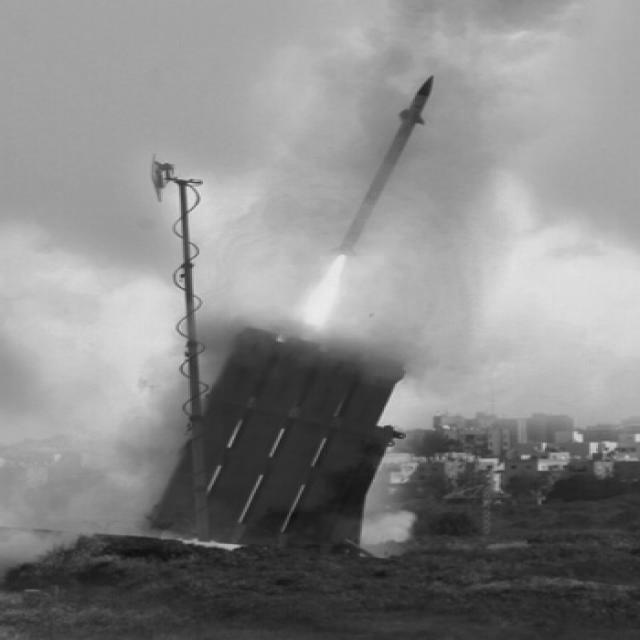missile: (331, 71, 443, 269)
